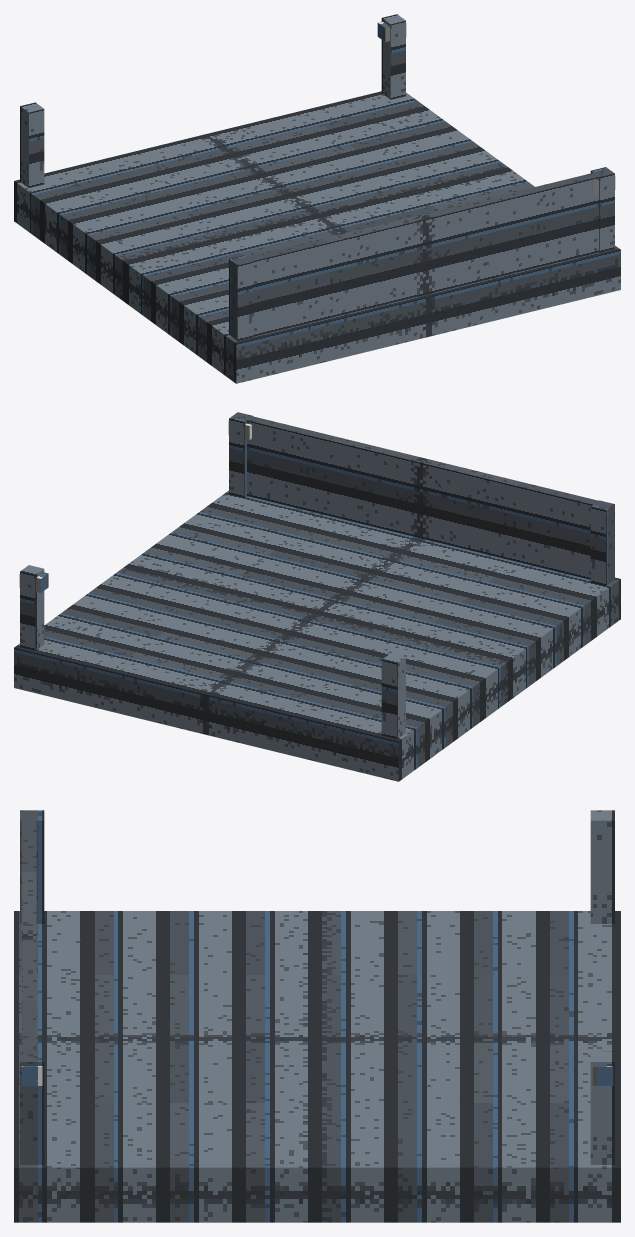
The model's file is sp_hoist_car.glb.
3 views of the same model, one above another, from view 1: azimuth 30°, elevation 25°; view 2: azimuth 150°, elevation 25°; view 3: azimuth 270°, elevation 25° (orthographic). The views are drawn at different scales.
Parts seen in each view (by area): view 1: hoist_deck, hoist_back, hoist_channel_-11, hoist_channel_-1-1, hoist_channel_11, hoist_channel_1-1; view 2: hoist_deck, hoist_back, hoist_channel_-1-1, hoist_channel_-11, hoist_channel_11, hoist_channel_1-1; view 3: hoist_deck, hoist_back, hoist_channel_-11, hoist_channel_11, hoist_channel_1-1, hoist_channel_-1-1.
Boxes of the visible parts, box(x1,y1,x2,y2) form: hoist_deck: box(14, 91, 620, 383); hoist_back: box(238, 170, 606, 336); hoist_channel_-11: box(20, 102, 44, 187); hoist_channel_-1-1: box(229, 255, 253, 340); hoist_channel_11: box(381, 14, 405, 99); hoist_channel_1-1: box(590, 167, 614, 252); hoist_deck: box(14, 490, 620, 781); hoist_back: box(238, 414, 601, 579); hoist_channel_-1-1: box(590, 500, 614, 585); hoist_channel_-11: box(381, 653, 405, 738); hoist_channel_11: box(20, 565, 44, 650); hoist_channel_1-1: box(229, 412, 252, 497); hoist_deck: box(14, 911, 620, 1222); hoist_back: box(21, 814, 36, 1057); hoist_channel_-11: box(590, 810, 614, 923); hoist_channel_11: box(590, 1051, 614, 1164); hoist_channel_1-1: box(20, 1051, 44, 1164); hoist_channel_-1-1: box(20, 810, 44, 923).
Bounding box in the file's own units: 4 × 1.18 × 4.
2 materials, 2 textured.
